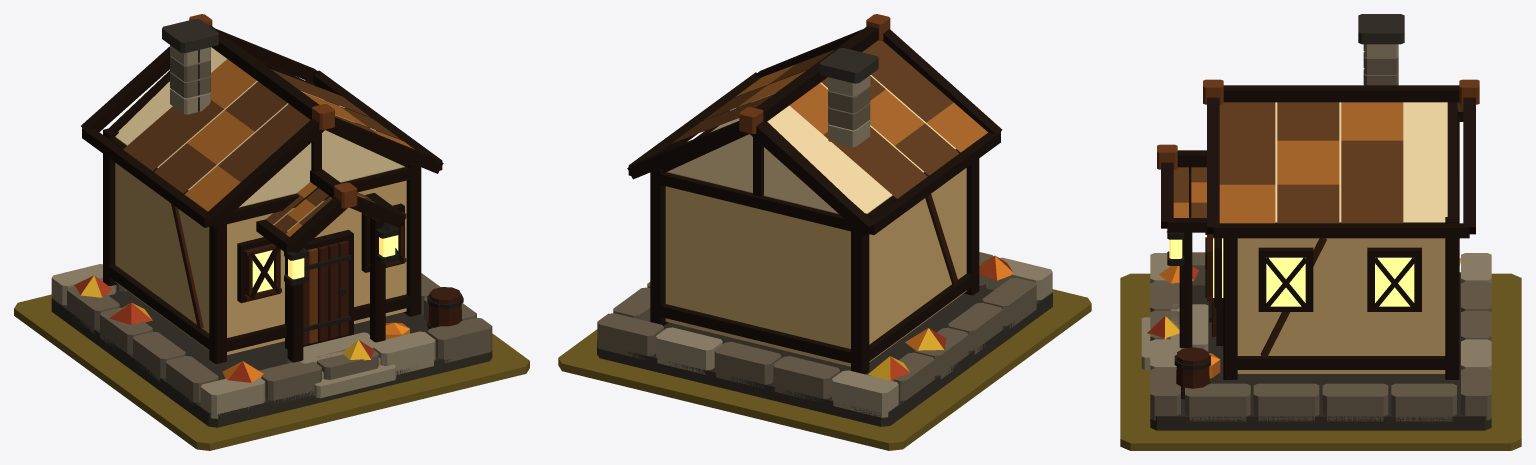
File: manor_hall_t2.glb
3 renders of one model, left to right at view 1: azimuth 30°, elevation 25°; view 2: azimuth 150°, elevation 25°; view 3: azimuth 270°, elevation 25°, orthographic. The views are drawn at different scales.
Visible parts, largest first — view 1: MMR | hall | T02 Architecture.001, MMR | hall | Tier 02 Ground.001, MMR | hall | T02 Autumn Dressing.001; view 2: MMR | hall | T02 Architecture.001, MMR | hall | Tier 02 Ground.001, MMR | hall | T02 Autumn Dressing.001; view 3: MMR | hall | T02 Architecture.001, MMR | hall | Tier 02 Ground.001, MMR | hall | T02 Autumn Dressing.001.
Boxes of the visible parts, x1,y1,x2,y2 form: MMR | hall | T02 Architecture.001: (51, 14, 492, 427); MMR | hall | Tier 02 Ground.001: (14, 294, 529, 450); MMR | hall | T02 Autumn Dressing.001: (74, 275, 409, 382); MMR | hall | T02 Architecture.001: (597, 14, 1052, 426); MMR | hall | Tier 02 Ground.001: (558, 289, 1091, 450); MMR | hall | T02 Autumn Dressing.001: (868, 255, 1013, 380); MMR | hall | T02 Architecture.001: (1141, 14, 1491, 430); MMR | hall | Tier 02 Ground.001: (1120, 273, 1521, 450); MMR | hall | T02 Autumn Dressing.001: (1147, 258, 1460, 378).
Bounding box in the file's own units: 2.35 × 2.04 × 2.35.
Materials: 2 (1 with a texture image).
